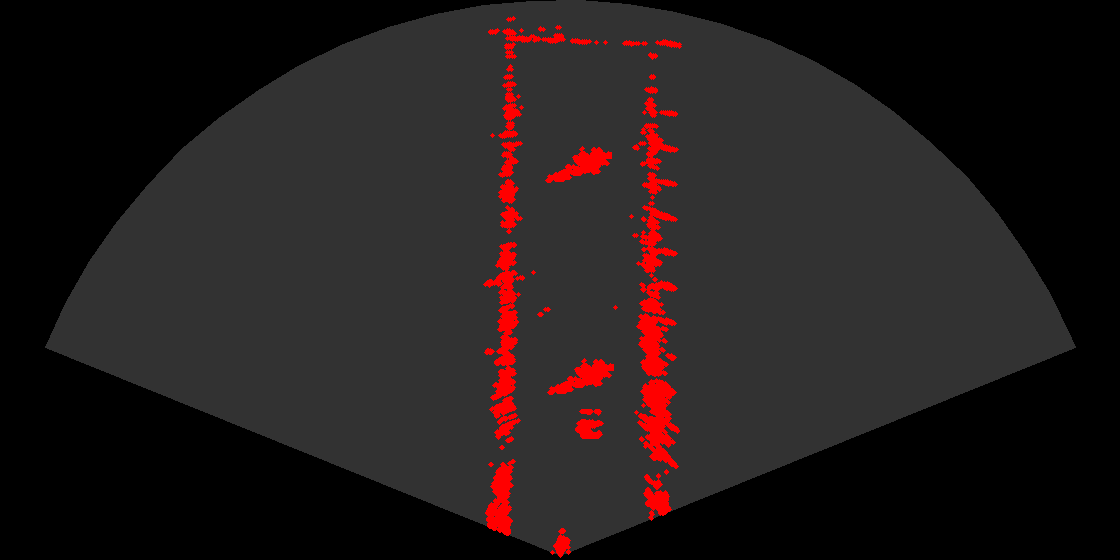ball: (555, 401, 615, 442)
frogman: (546, 352, 614, 399), (544, 140, 612, 187)
